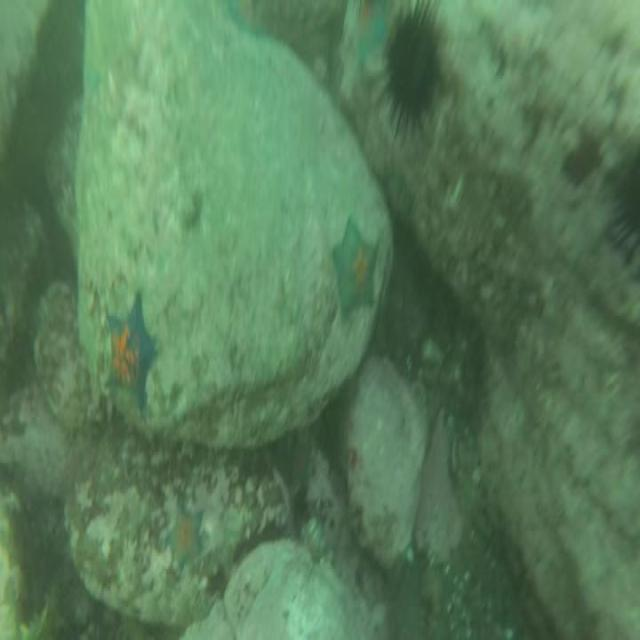echinus: (377, 0, 443, 144), (602, 128, 640, 278)
starfish: (102, 291, 158, 417), (329, 212, 379, 328), (161, 502, 207, 574), (350, 0, 388, 74)
